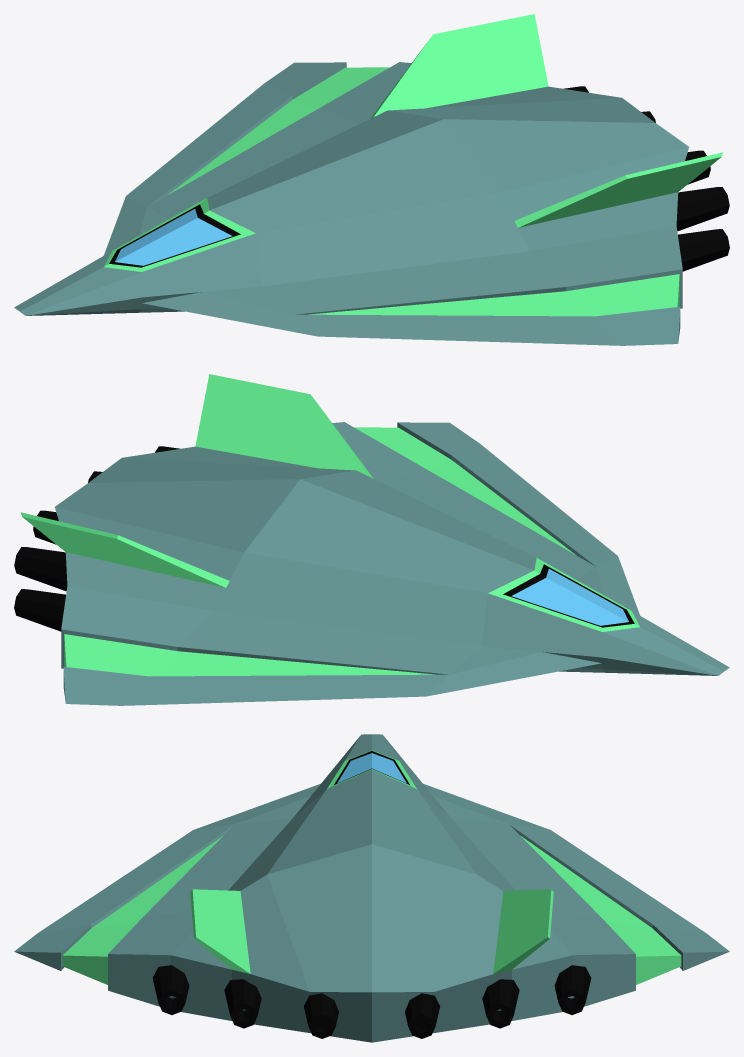
The model's file is scout2.fbx.
3 views of the same model, one above another, from view 1: azimuth 30°, elevation 25°; view 2: azimuth 150°, elevation 25°; view 3: azimuth 270°, elevation 25° (orthographic). The views are drawn at different scales.
Visible parts, largest first — view 1: Scout2; view 2: Scout2; view 3: Scout2.
Part boxes in pixels (x1,y1,x2,y2): Scout2: (14, 14, 729, 345); Scout2: (14, 374, 729, 705); Scout2: (14, 734, 729, 1042).
Bounding box in the file's own units: 542 × 117 × 549.
